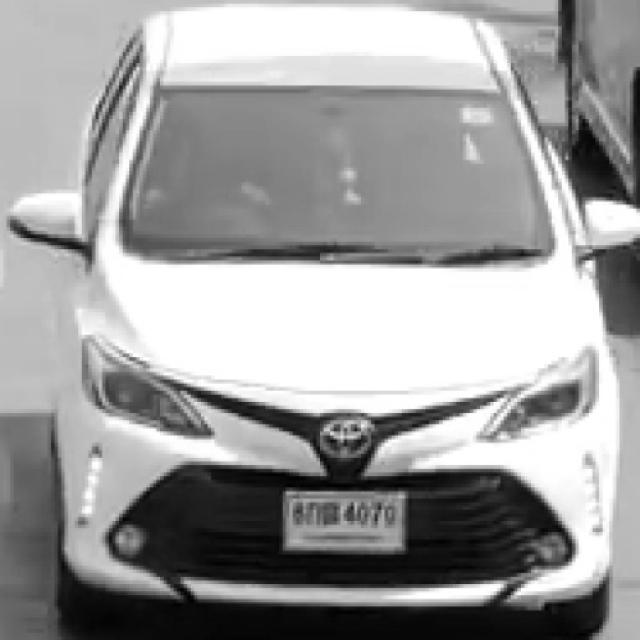plate: (284, 488, 409, 556)
